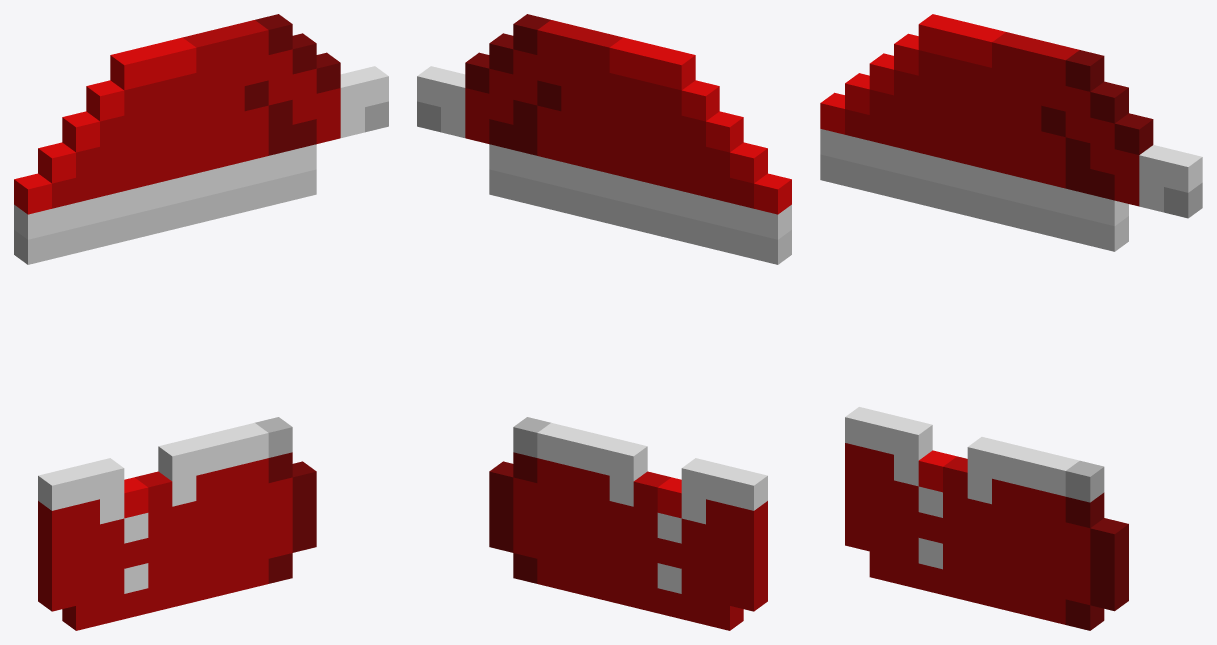
Rendered from seal-10.obj.
3 views of the same model, side by side, from view 1: azimuth 30°, elevation 25°; view 2: azimuth 150°, elevation 25°; view 3: azimuth 330°, elevation 25° (orthographic).
Size of the model in its own units: 1.5 by 2.2 by 0.1.
Materials: 1 (1 with a texture image).
